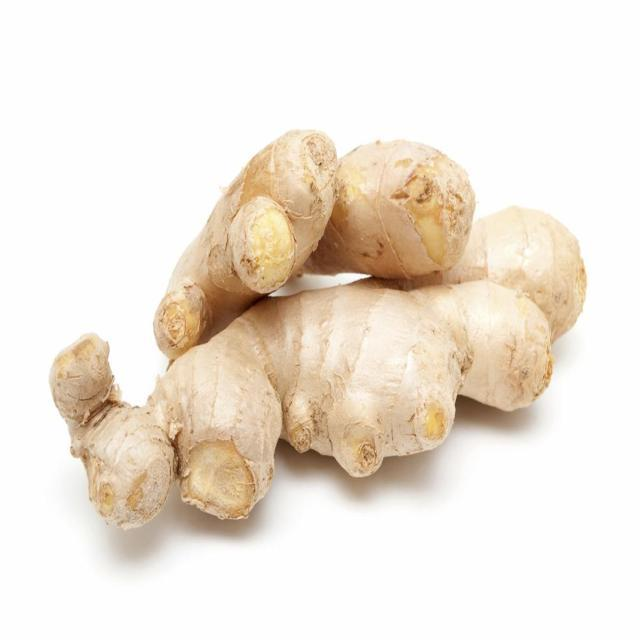ginger: (49, 279, 552, 528), (153, 129, 336, 358), (300, 139, 474, 278), (441, 206, 585, 340)
